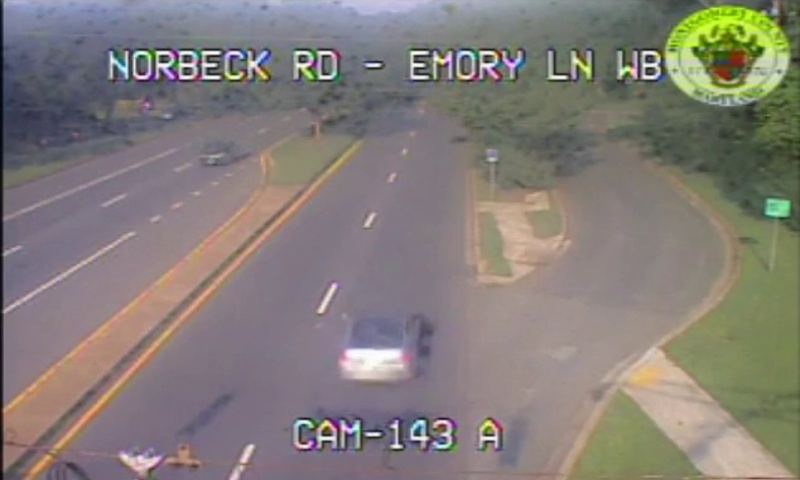car: (338, 310, 417, 381)
